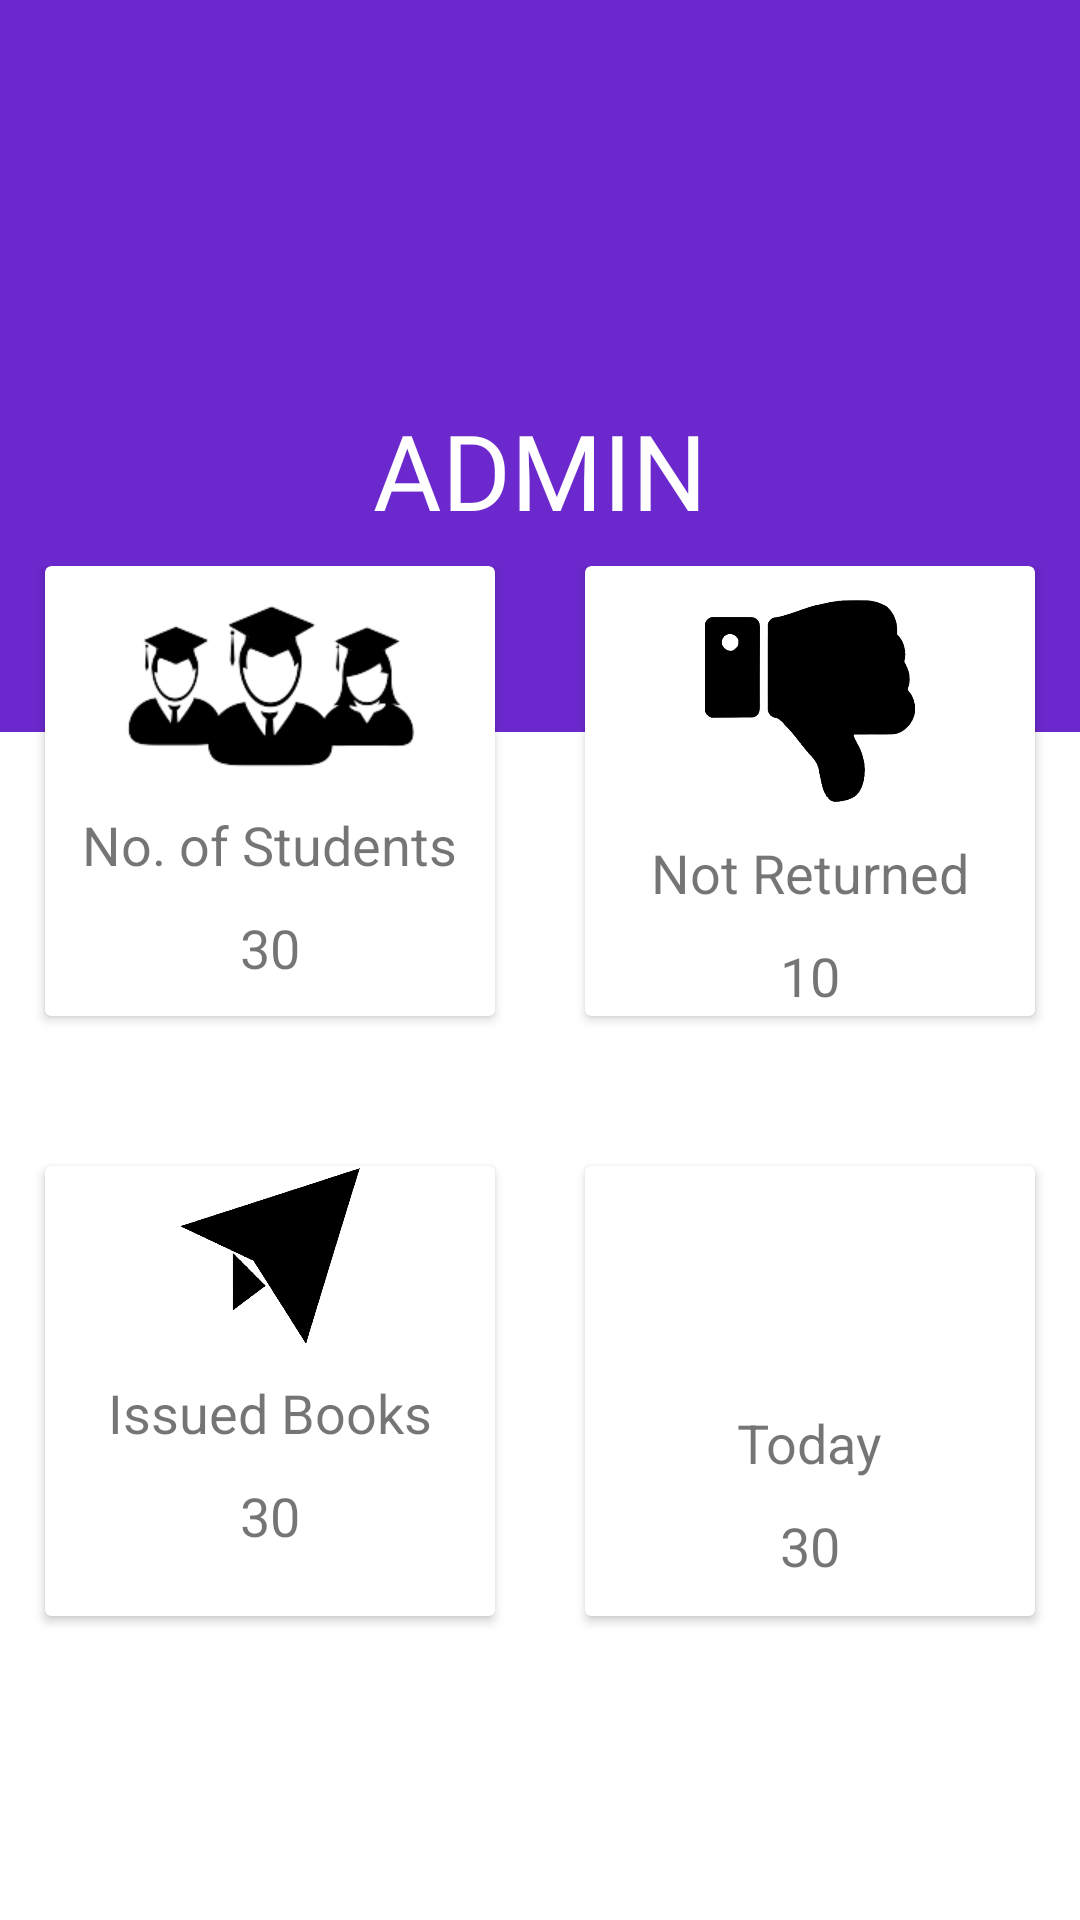

Where to tap for icons on this 1080 × 1920 app screen, as (x=x, y=y):
dthumbs down: (x=810, y=701)
